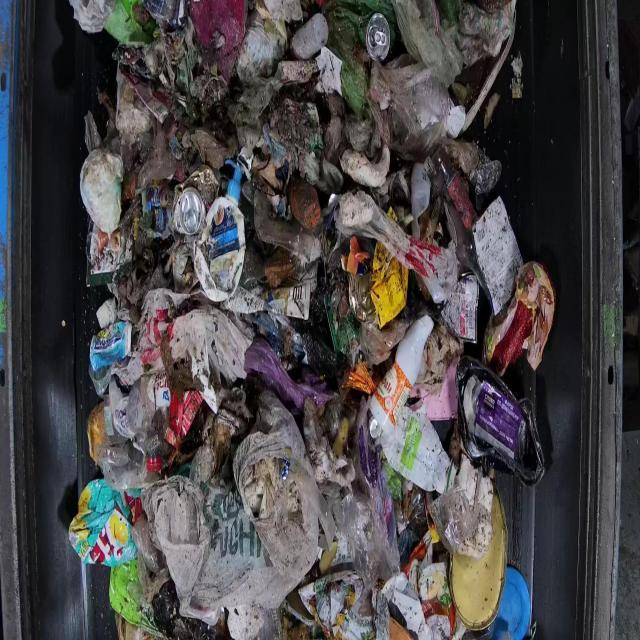E-waste: (68, 0, 557, 638)
